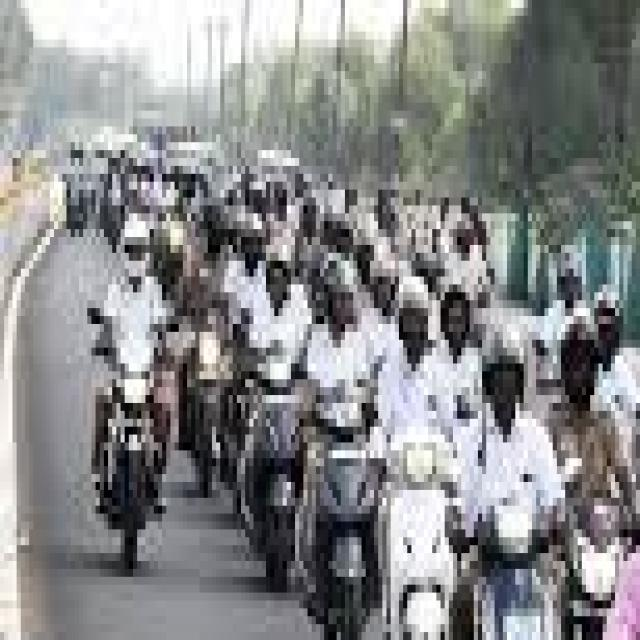bike: (299, 363, 391, 640), (92, 316, 175, 569), (374, 411, 465, 640), (440, 482, 570, 640), (241, 324, 312, 600), (561, 482, 632, 640), (187, 308, 241, 514)
